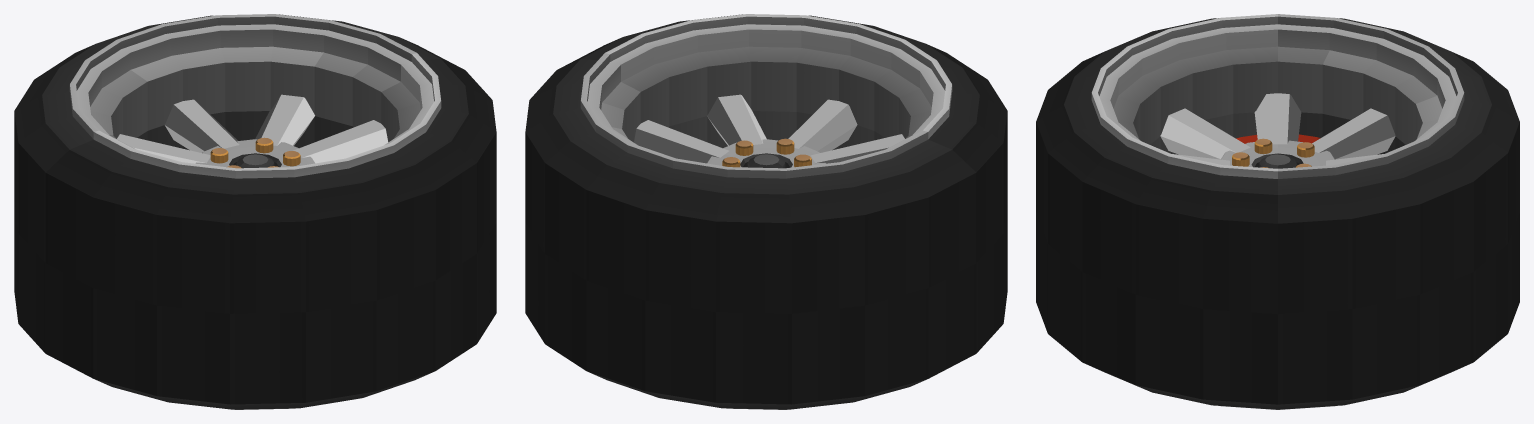
File: AE86_REAR_LEFT.glb
3 views of the same model, side by side, from view 1: azimuth 30°, elevation 25°; view 2: azimuth 150°, elevation 25°; view 3: azimuth 270°, elevation 25° (orthographic).
Visible parts, largest first — view 1: rear_left.001; view 2: rear_left.001; view 3: rear_left.001.
Part boxes in pixels (x1,y1,x2,y2): rear_left.001: [14, 14, 496, 409]; rear_left.001: [525, 14, 1007, 409]; rear_left.001: [1036, 14, 1519, 409].
Bounding box in the file's own units: 2.63 × 1.52 × 2.63.
1 material, 1 textured.
